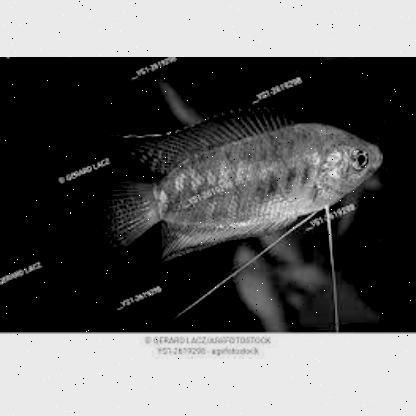gurame: (112, 118, 382, 254)
